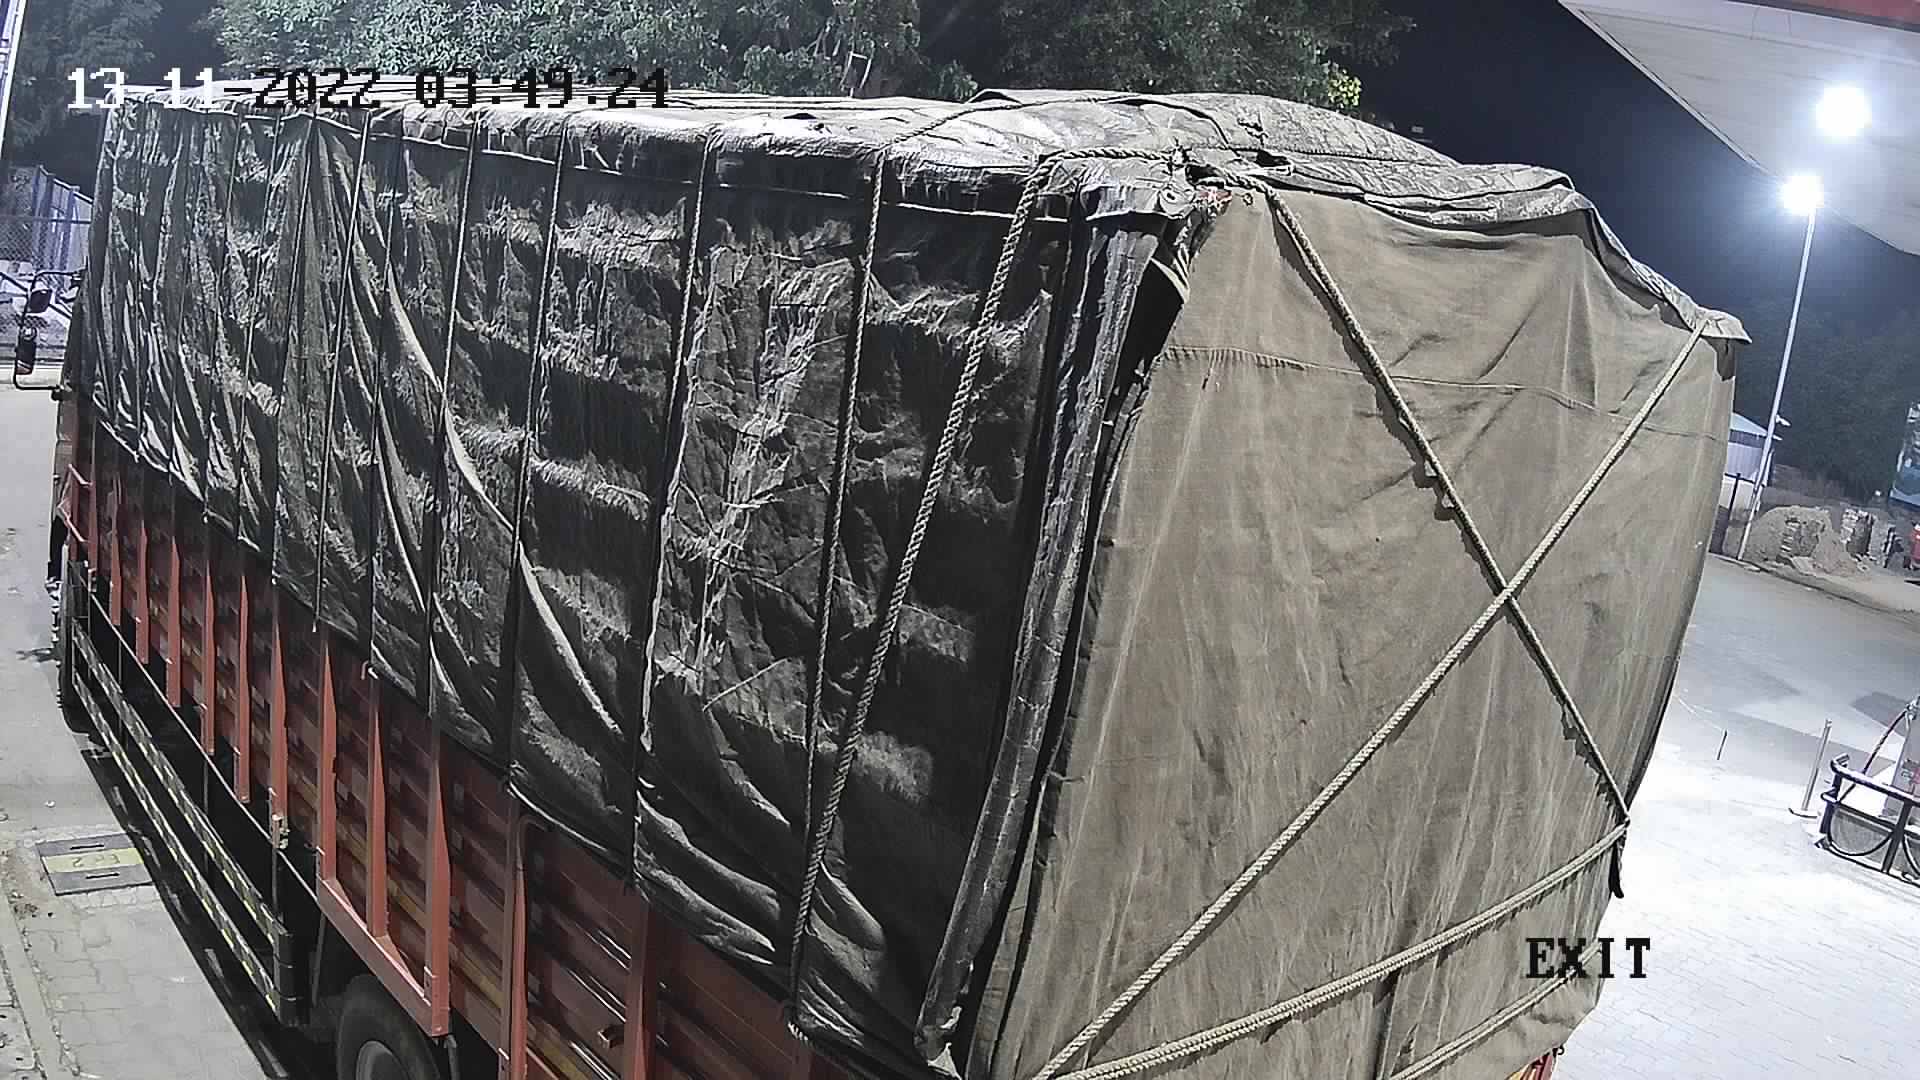HMV: (0, 55, 1767, 1078)
